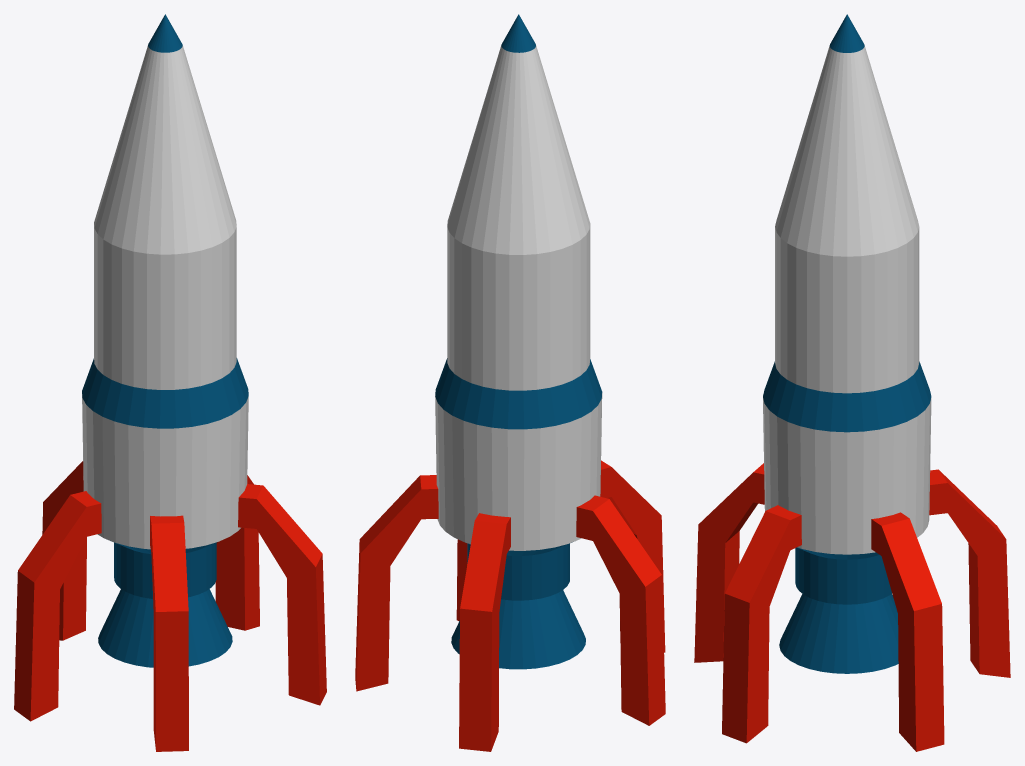
Rendered from rocket.fbx.
3 views of the same model, side by side, from view 1: azimuth 30°, elevation 25°; view 2: azimuth 150°, elevation 25°; view 3: azimuth 270°, elevation 25° (orthographic).
Visible parts, largest first — view 1: Cone; view 2: Cone; view 3: Cone.
Part boxes in pixels (x1,y1,x2,y2): Cone: (14,14,326,751); Cone: (355,14,665,751); Cone: (694,14,1010,751).
Bounding box in the file's own units: 486 × 1152 × 489.
